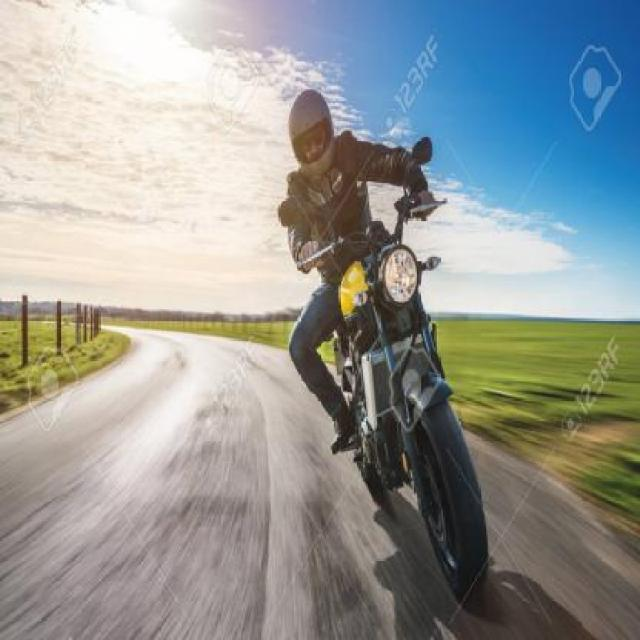helmet: (279, 93, 350, 184)
motorcycle: (240, 90, 534, 609)
